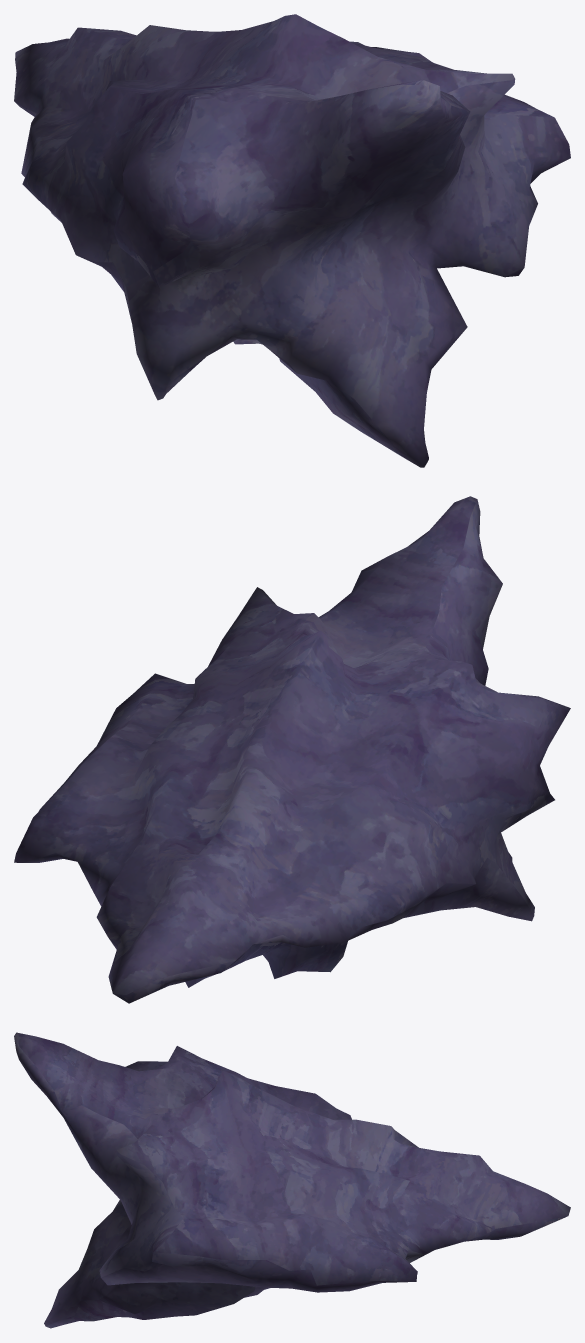
File: Area_Cyjy_Stone_DOWN_Full_Chasm_S_02.fbx
3 renders of one model, top to bottom at view 1: azimuth 30°, elevation 25°; view 2: azimuth 150°, elevation 25°; view 3: azimuth 270°, elevation 25°, orthographic. The views are drawn at different scales.
Parts seen in each view (by area): view 1: Area_Cyjy_Stone_DOWN_Full_Chasm_S_02_Lod0; view 2: Area_Cyjy_Stone_DOWN_Full_Chasm_S_02_Lod0; view 3: Area_Cyjy_Stone_DOWN_Full_Chasm_S_02_Lod0.
Boxes of the visible parts, <box> form: Area_Cyjy_Stone_DOWN_Full_Chasm_S_02_Lod0: <box>14,14,570,467</box>; Area_Cyjy_Stone_DOWN_Full_Chasm_S_02_Lod0: <box>14,496,570,1003</box>; Area_Cyjy_Stone_DOWN_Full_Chasm_S_02_Lod0: <box>14,1032,570,1328</box>.
Size of the model in its own units: 12.65 by 11.42 by 19.98.
Materials: 1 (1 with a texture image).
